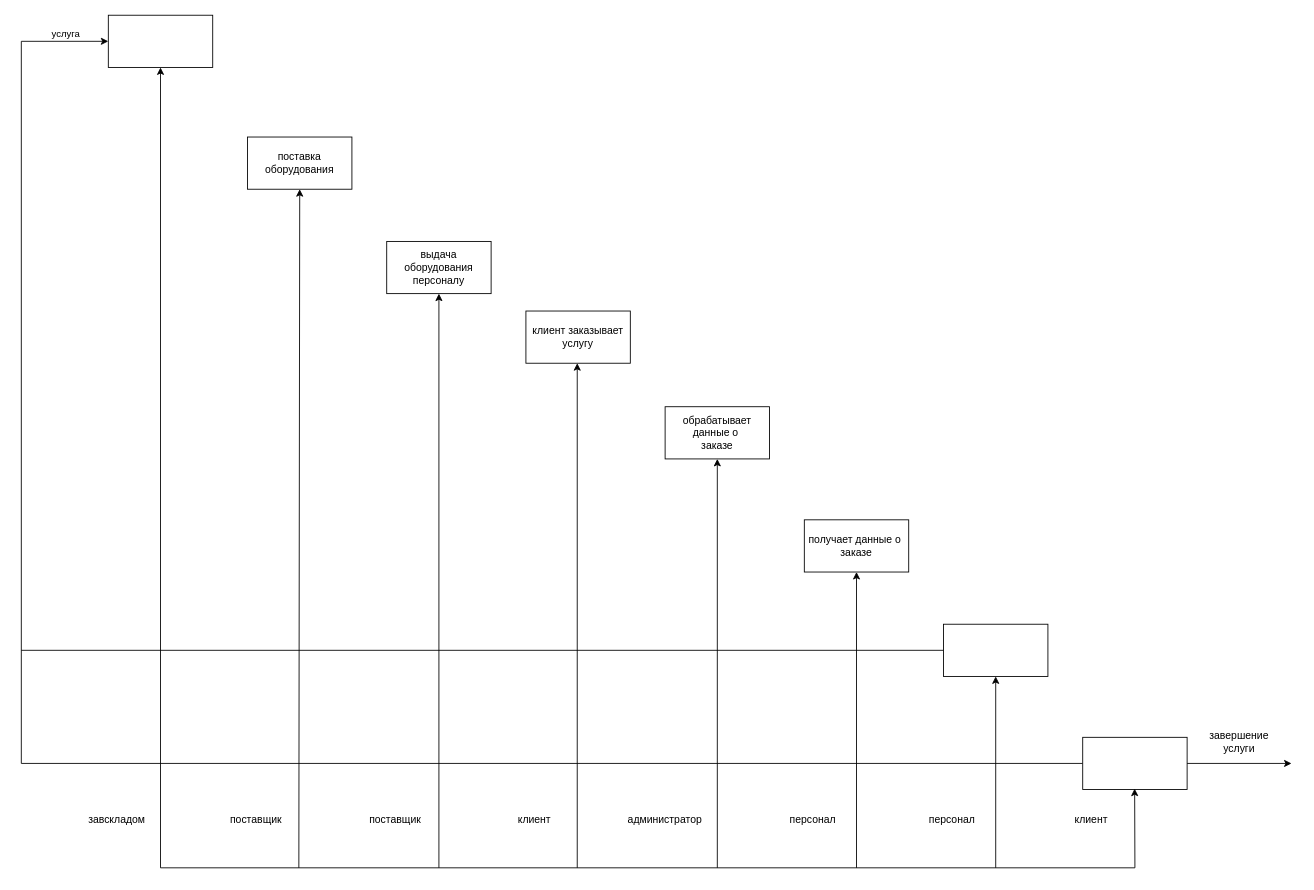
Image size: 1314x890. Some labels were removed from this diagram. Here are the shapes that lost their labels. From the top down, the box of each, then its label:
(107, 14, 213, 67): заказ оборудования у поставщика
(943, 623, 1048, 676): персонал отправляется на выполнение заказа
(1082, 736, 1187, 790): клиент получает услугу
